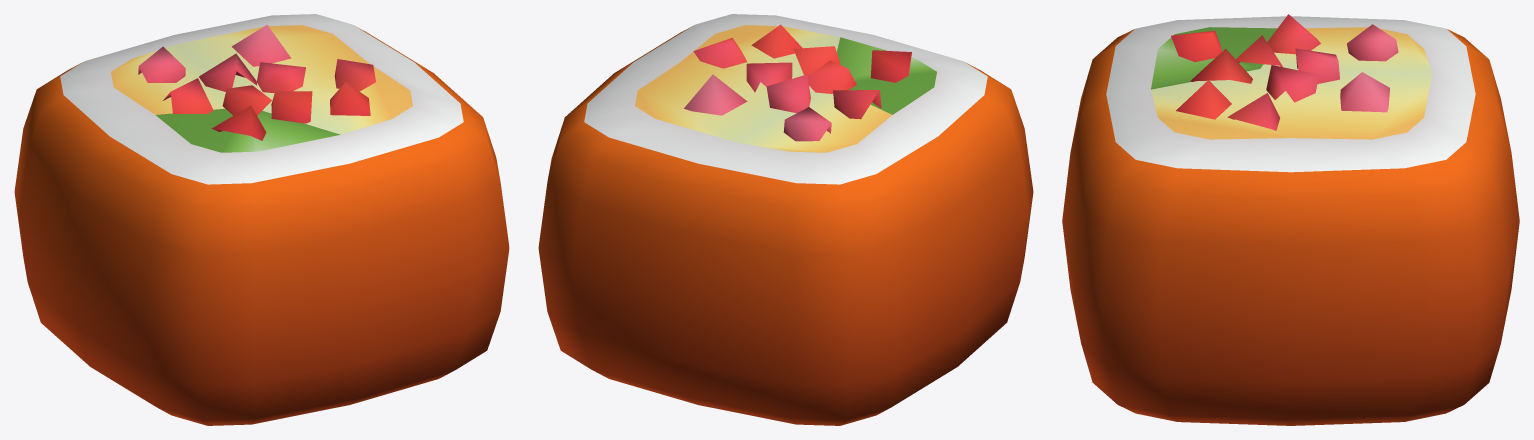
The model's file is roll_002.fbx.
3 views of the same model, side by side, from view 1: azimuth 30°, elevation 25°; view 2: azimuth 150°, elevation 25°; view 3: azimuth 270°, elevation 25° (orthographic). The views are drawn at different scales.
Parts seen in each view (by area): view 1: roll_002; view 2: roll_002; view 3: roll_002.
Boxes of the visible parts, x1,y1,x2,y2 form: roll_002: [14, 14, 509, 425]; roll_002: [538, 14, 1033, 425]; roll_002: [1062, 14, 1519, 425].
Bounding box in the file's own units: 4.45 × 4.45 × 3.63.
